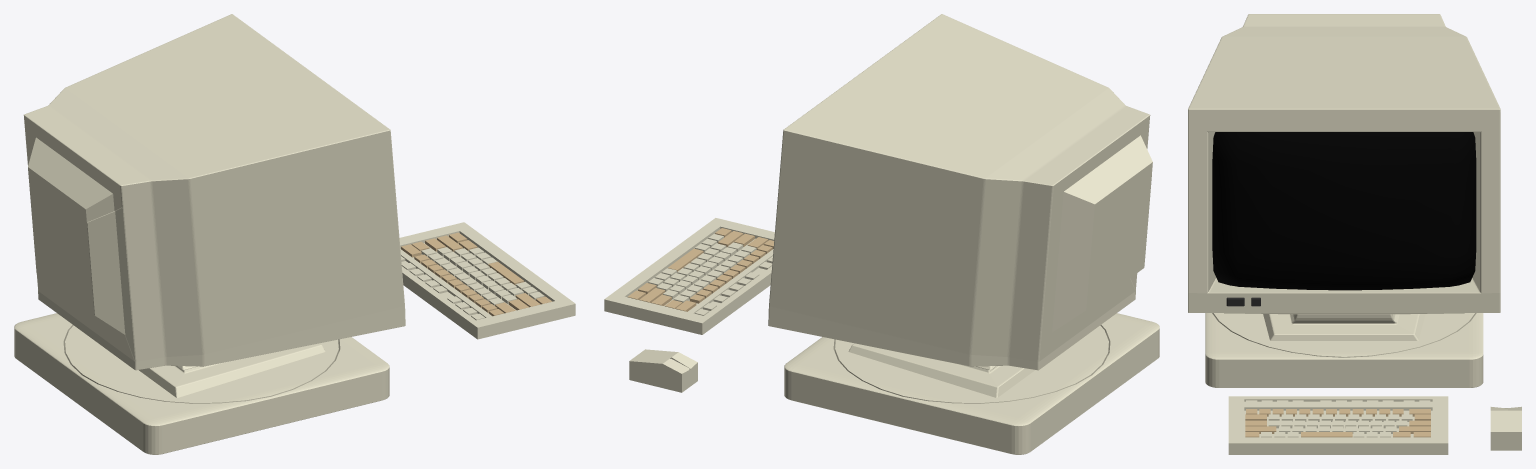
The model's file is Computer2.fbx.
3 views of the same model, side by side, from view 1: azimuth 30°, elevation 25°; view 2: azimuth 150°, elevation 25°; view 3: azimuth 270°, elevation 25° (orthographic).
Visible parts, largest first — view 1: Cube.001, Cube, Cube.005, Cube.011, Cube.012, Cube.007, Cube.013; view 2: Cube.001, Cube, Cube.005, Cube.026, Cube.011, Cube.012, Cube.007, Cube.013; view 3: Cube.001, Cube.002, Cube, Cube.005, Cube.026, Cube.012, Cube.007, Cube.011, Cube.013.
Part boxes in pixels (bbox=[...]): Cube.001: bbox=[23, 14, 405, 397]; Cube: bbox=[14, 313, 389, 454]; Cube.005: bbox=[399, 222, 575, 339]; Cube.011: bbox=[414, 254, 504, 316]; Cube.012: bbox=[437, 247, 517, 303]; Cube.007: bbox=[421, 248, 504, 305]; Cube.013: bbox=[454, 248, 523, 296]; Cube.001: bbox=[768, 14, 1152, 397]; Cube: bbox=[784, 313, 1159, 454]; Cube.005: bbox=[604, 218, 774, 334]; Cube.026: bbox=[629, 349, 697, 392]; Cube.011: bbox=[689, 240, 774, 303]; Cube.012: bbox=[663, 242, 743, 299]; Cube.007: bbox=[673, 245, 756, 302]; Cube.013: bbox=[656, 243, 726, 291]; Cube.001: bbox=[1188, 14, 1500, 340]; Cube.002: bbox=[1212, 132, 1476, 290]; Cube: bbox=[1205, 313, 1483, 387]; Cube.005: bbox=[1228, 396, 1448, 454]; Cube.026: bbox=[1490, 406, 1521, 450]; Cube.012: bbox=[1268, 420, 1407, 428]; Cube.007: bbox=[1268, 414, 1412, 421]; Cube.011: bbox=[1246, 409, 1403, 416]; Cube.013: bbox=[1279, 426, 1396, 433].
Size of the model in its own units: 329 by 189 by 208.
